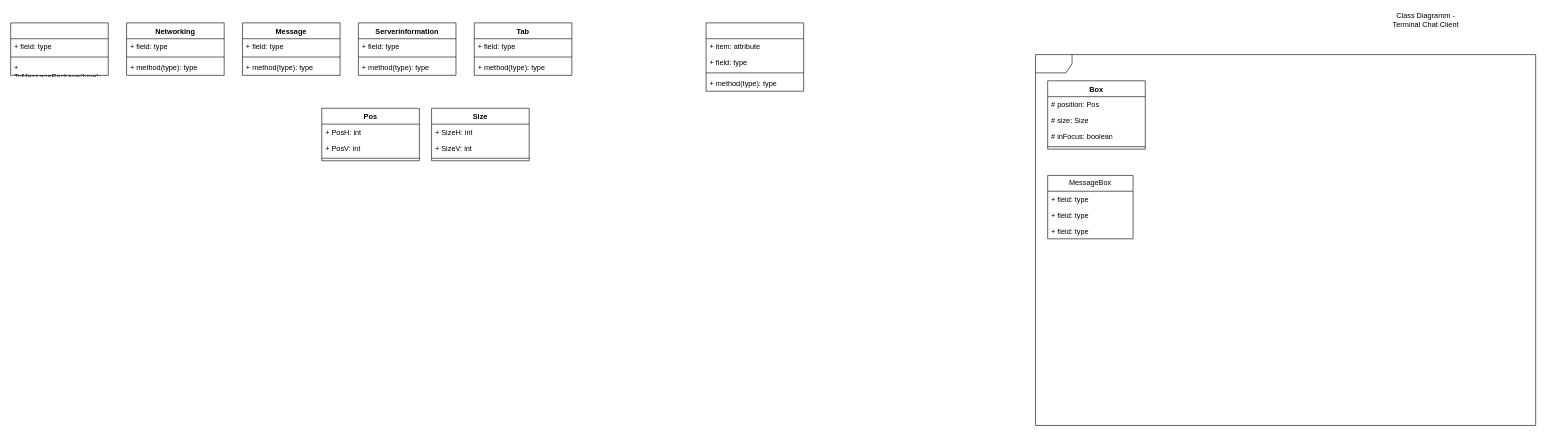
This 1546x436 diagram has some shape labels left out. Here are the shapes that lost their labels. From the top down, the box of each, then its label:
(10, 22, 108, 75): Packageing
(705, 22, 804, 91): Navigation
(1035, 54, 1536, 425): Display
